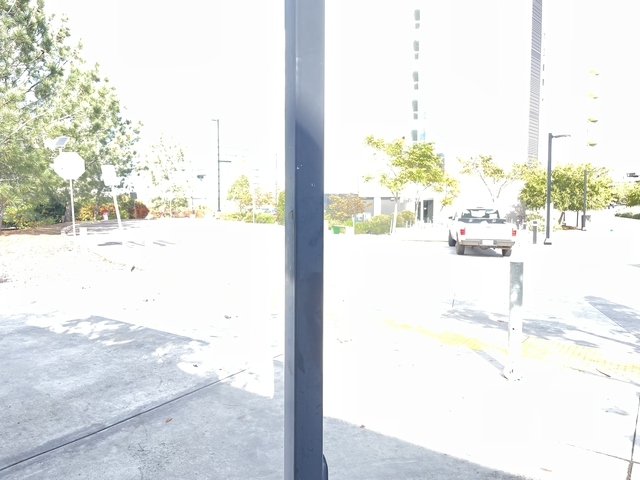Car: (446, 206, 518, 257)
